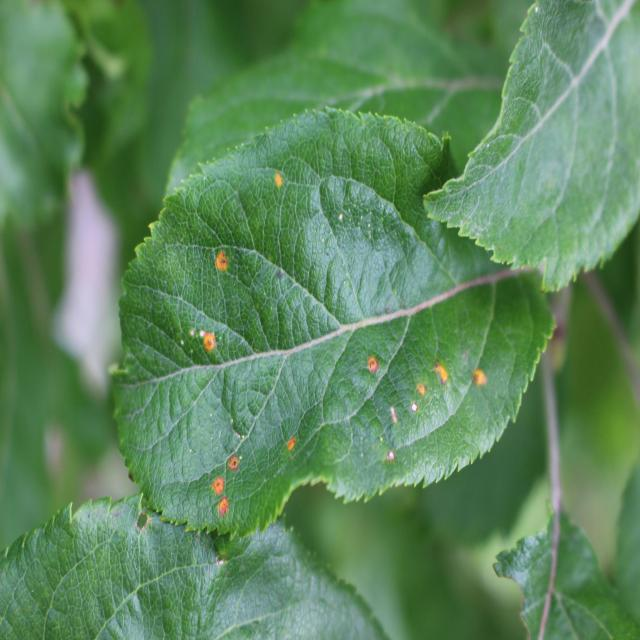Rust: (465, 351, 496, 407), (190, 324, 227, 365), (210, 238, 234, 290), (433, 349, 453, 402), (197, 468, 227, 500), (361, 346, 388, 379), (276, 428, 305, 458), (213, 498, 241, 527), (264, 166, 291, 196), (224, 447, 246, 480), (410, 374, 433, 404)
